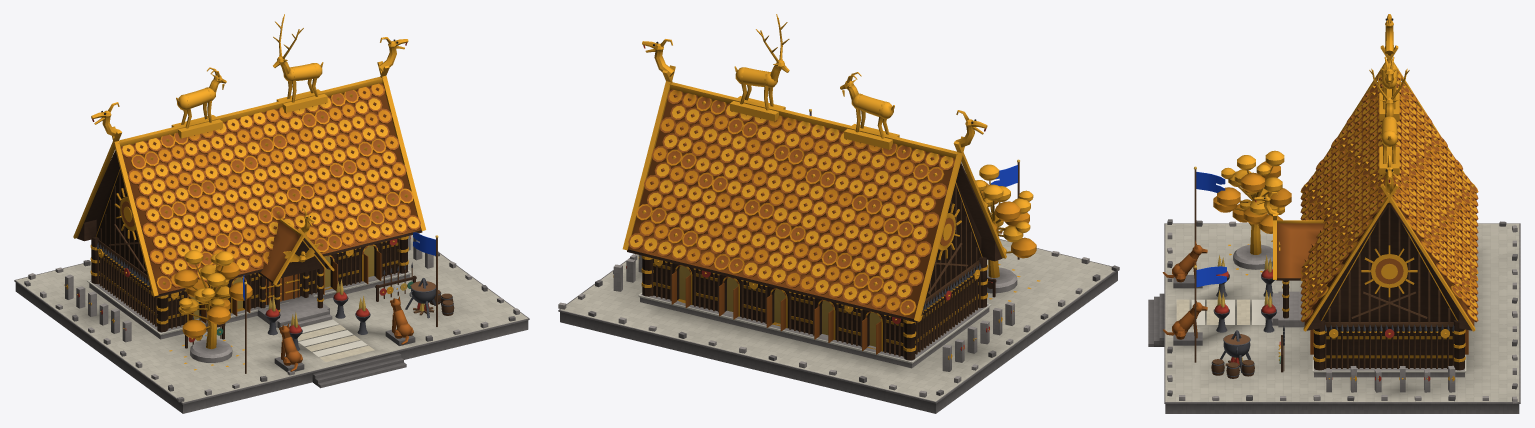
Rendered from lm_ulfsalon.glb.
3 views of the same model, side by side, from view 1: azimuth 30°, elevation 25°; view 2: azimuth 150°, elevation 25°; view 3: azimuth 270°, elevation 25° (orthographic). The views are drawn at different scales.
Parts seen in each view (by area): view 1: lm_ulfsalon; view 2: lm_ulfsalon; view 3: lm_ulfsalon.
Part boxes in pixels (x1,y1,x2,y2): lm_ulfsalon: [14, 14, 529, 413]; lm_ulfsalon: [558, 14, 1119, 413]; lm_ulfsalon: [1148, 14, 1520, 413].
Size of the model in its own units: 2.28 by 1.63 by 1.98.
1 material, 1 textured.
